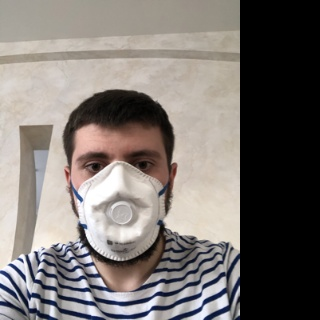with_mask: (71, 141, 169, 266)
